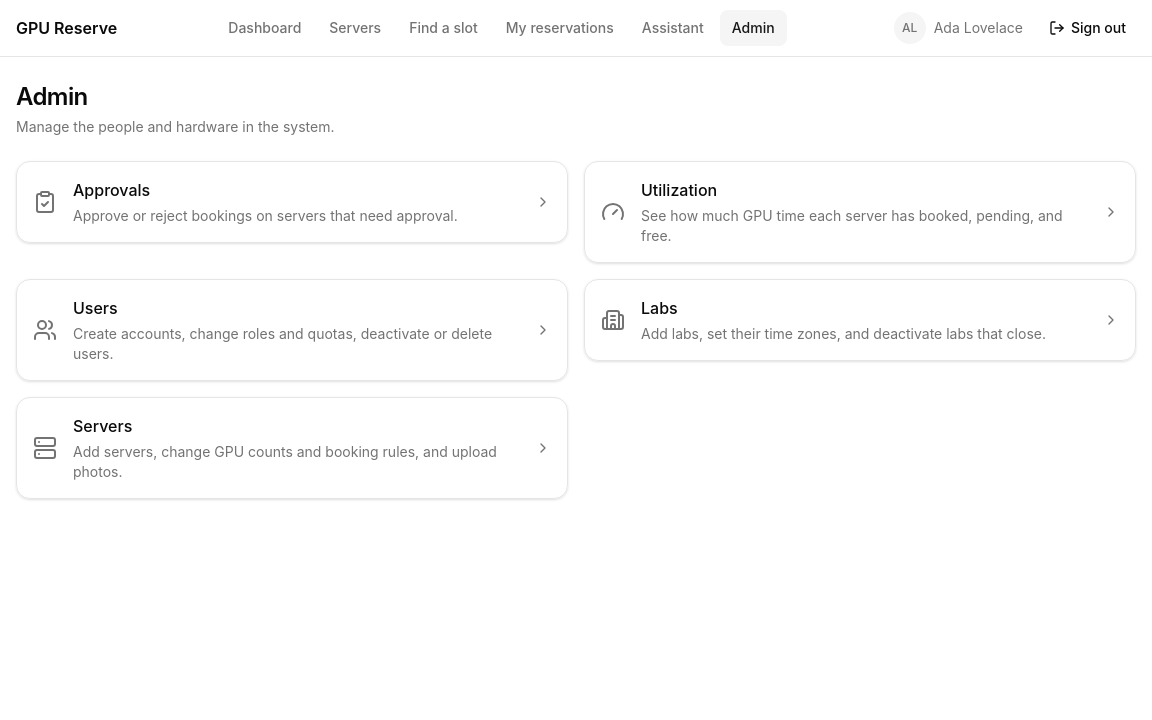
Test: admin hub › links to user management
The width and height of the screenshot is (1152, 720).
Step 1. Click the link "Users" → coordinates (292, 330), box [16,279,568,381]
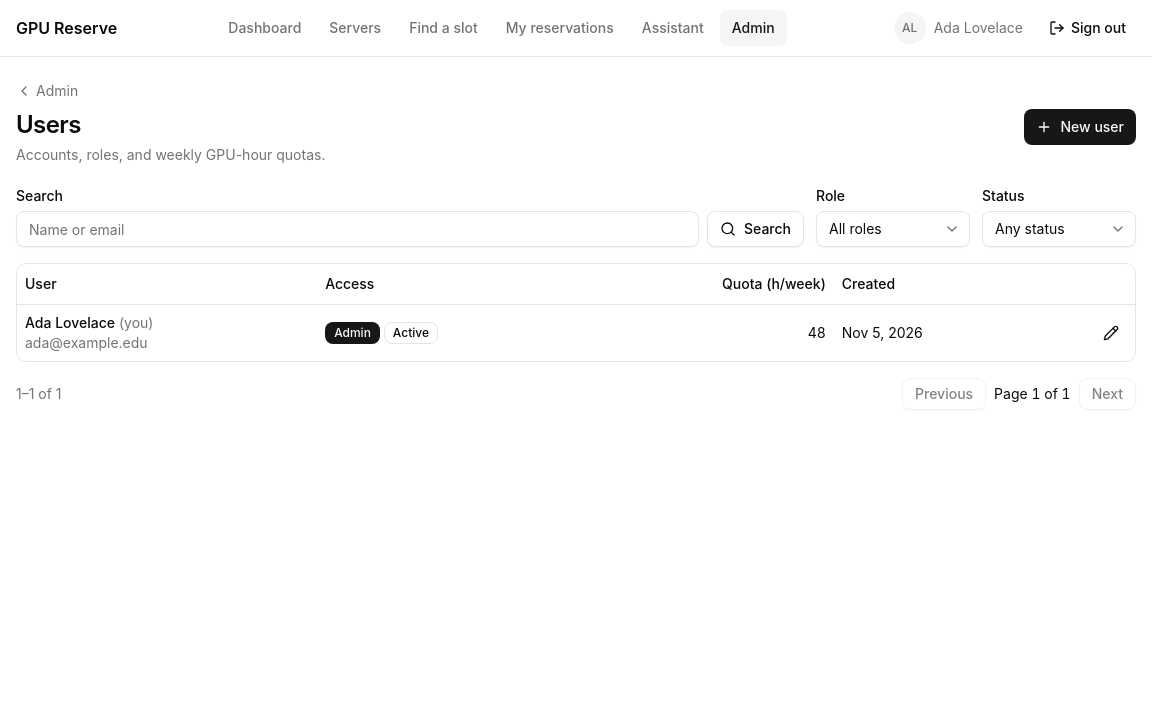
Result: the heading "Users" is shown at [16,110,81,139]
